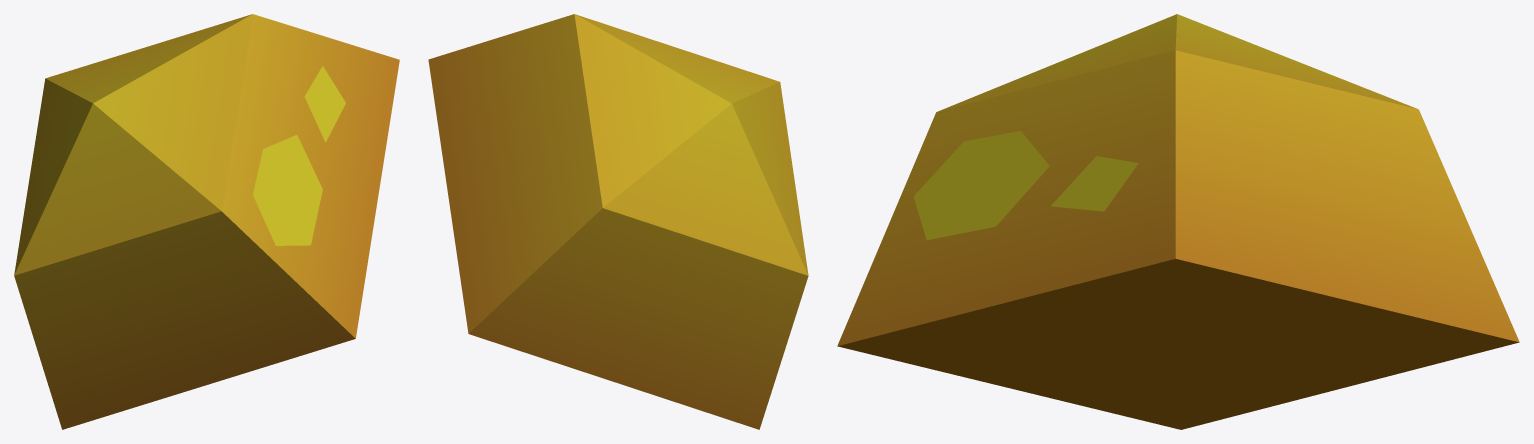
The model's file is goodTimesRedClockBellA.glb.
3 views of the same model, side by side, from view 1: azimuth 30°, elevation 25°; view 2: azimuth 150°, elevation 25°; view 3: azimuth 270°, elevation 25° (orthographic). The views are drawn at different scales.
Visible parts, largest first — view 1: goodTimesRedClockBellA; view 2: goodTimesRedClockBellA; view 3: goodTimesRedClockBellA.
Boxes of the visible parts, box(x1,y1,x2,y2) form: goodTimesRedClockBellA: box(14, 14, 399, 429); goodTimesRedClockBellA: box(428, 14, 808, 429); goodTimesRedClockBellA: box(837, 14, 1519, 429).
Bounding box in the file's own units: 0.2032 × 0.1877 × 0.23.
